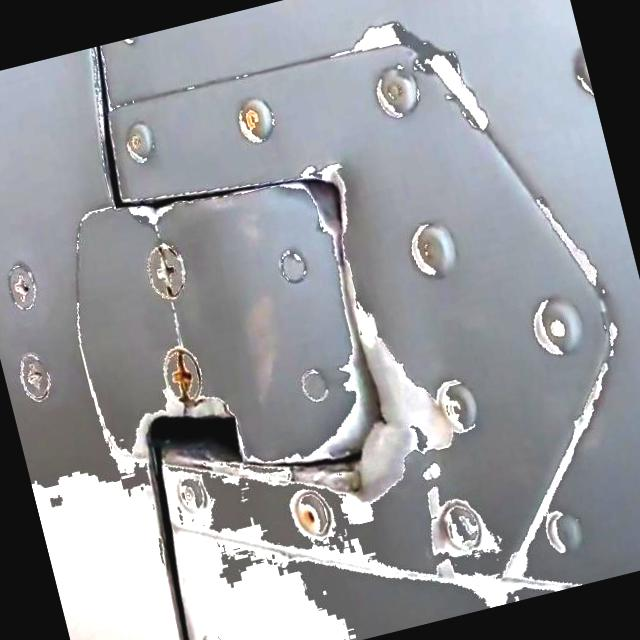crack: (147, 288, 195, 352)
